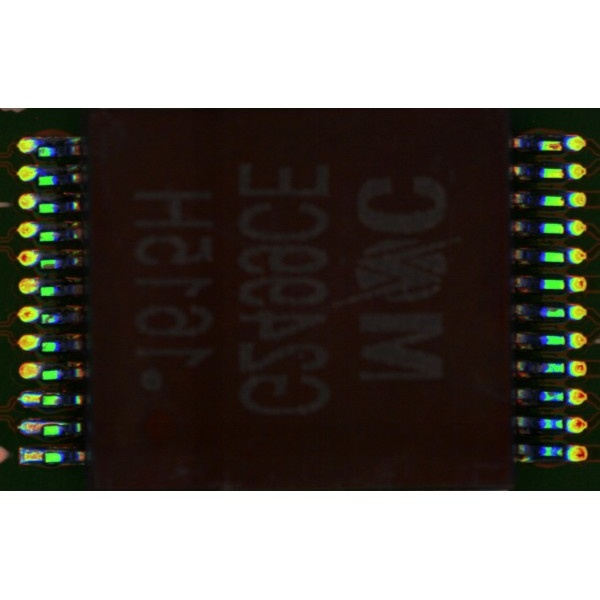Bad_podu: (36, 453, 51, 460), (34, 396, 48, 403)
Bad_qiaojiao: (42, 421, 68, 425)
